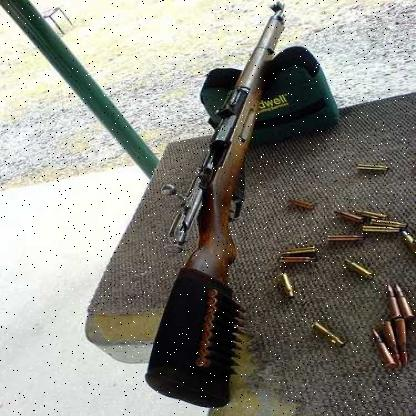rifle: (147, 0, 318, 411)
